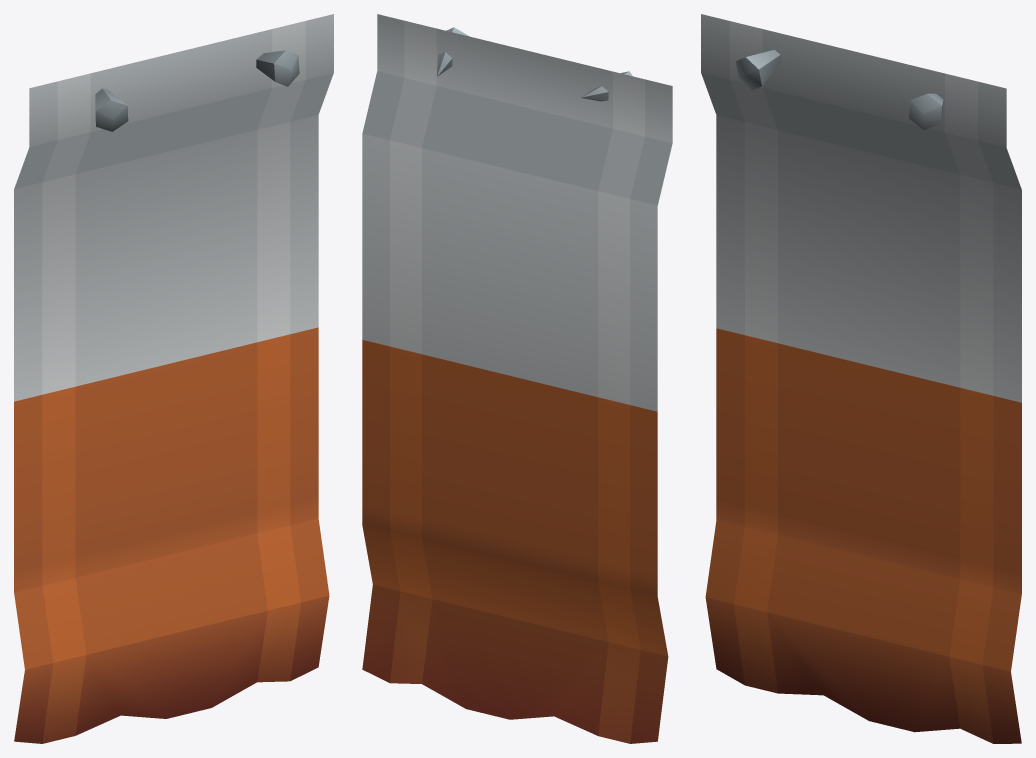
The model's file is banner_patternB_brown.glb.
3 views of the same model, side by side, from view 1: azimuth 30°, elevation 25°; view 2: azimuth 150°, elevation 25°; view 3: azimuth 330°, elevation 25° (orthographic). The views are drawn at different scales.
Parts seen in each view (by area): view 1: banner_patternB_brown; view 2: banner_patternB_brown; view 3: banner_patternB_brown.
Boxes of the visible parts, bbox=[...] form: banner_patternB_brown: bbox=[14, 14, 333, 743]; banner_patternB_brown: bbox=[362, 14, 672, 743]; banner_patternB_brown: bbox=[701, 14, 1021, 743].
Size of the model in its own units: 1.5 by 3.2 by 0.3117.
Materials: 1 (1 with a texture image).
